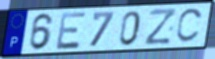0: (118, 10, 143, 46)
6: (29, 12, 54, 52)
7: (89, 10, 116, 49)
C: (174, 7, 205, 45)
E: (55, 11, 88, 51)
Z: (143, 8, 178, 47)
